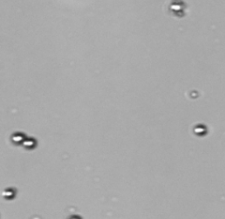Living Cell: (11, 132, 24, 145), (194, 123, 207, 136), (22, 137, 35, 149), (3, 187, 16, 199), (170, 2, 183, 14)
